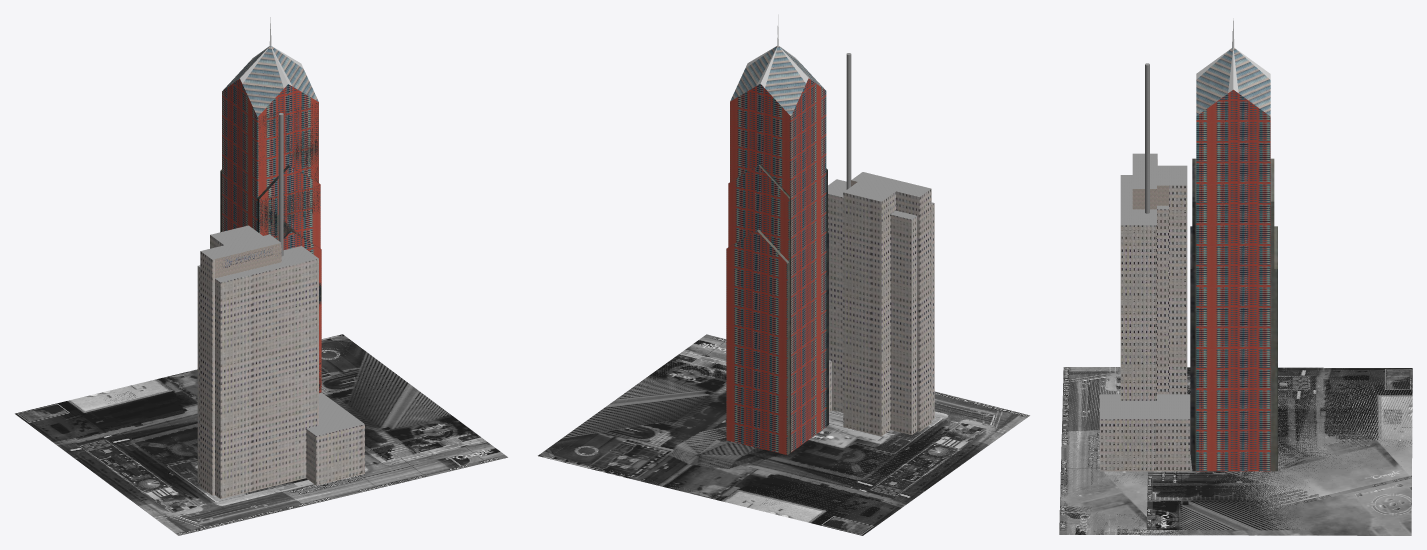
The model's file is 2_Prudential_Plaza.fbx.
3 renders of one model, left to right at view 1: azimuth 30°, elevation 25°; view 2: azimuth 150°, elevation 25°; view 3: azimuth 270°, elevation 25°, orthographic. The views are drawn at different scales.
Visible parts, largest first — view 1: Model, Google_Earth_Snapshot1, Google_Earth_Snapshot; view 2: Model, Google_Earth_Snapshot, Google_Earth_Snapshot1; view 3: Model, Google_Earth_Snapshot2, Google_Earth_Snapshot1, Google_Earth_Snapshot.
Boxes of the visible parts, <box> form: Model: <box>197,17,364,498</box>; Google_Earth_Snapshot1: <box>15,334,507,535</box>; Google_Earth_Snapshot: <box>105,340,456,471</box>; Model: <box>726,14,934,455</box>; Google_Earth_Snapshot: <box>552,367,900,504</box>; Google_Earth_Snapshot1: <box>538,334,1029,535</box>; Model: <box>1099,18,1277,471</box>; Google_Earth_Snapshot2: <box>1060,370,1412,535</box>; Google_Earth_Snapshot1: <box>1059,367,1412,535</box>; Google_Earth_Snapshot: <box>1146,408,1403,530</box>.
Size of the model in its own units: 10581 by 12945 by 9356.
